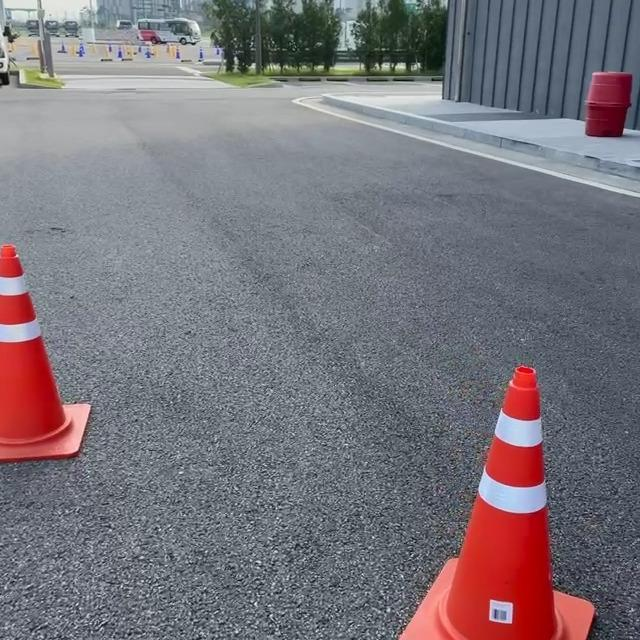fallen_object: (331, 301, 640, 640), (0, 211, 139, 524)
